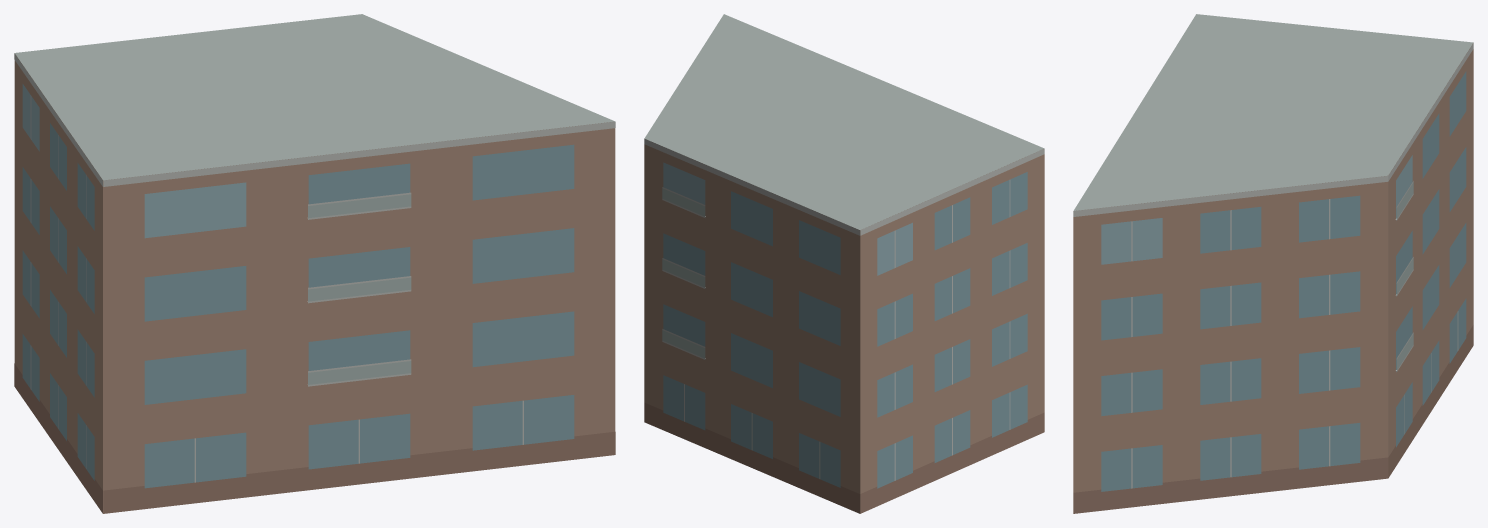
File: survey-upis-32569087.glb
3 renders of one model, left to right at view 1: azimuth 30°, elevation 25°; view 2: azimuth 150°, elevation 25°; view 3: azimuth 270°, elevation 25°, orthographic. The views are drawn at different scales.
Parts seen in each view (by area): view 1: survey-upis-32569087.tmp; view 2: survey-upis-32569087.tmp; view 3: survey-upis-32569087.tmp.
Part boxes in pixels (<box>): survey-upis-32569087.tmp: <box>14,14,615,513</box>; survey-upis-32569087.tmp: <box>644,14,1044,513</box>; survey-upis-32569087.tmp: <box>1073,14,1473,513</box>.
Size of the model in its own units: 17.04 by 12.2 by 14.63.
